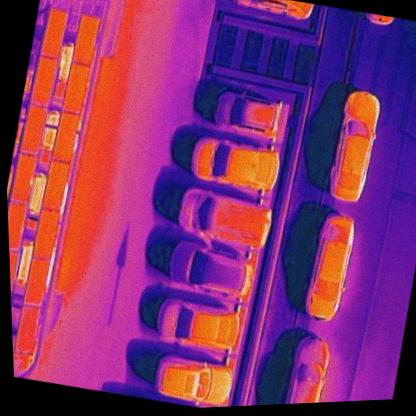Hotspot: (7, 151, 39, 206)
Normal: (58, 59, 92, 116), (27, 54, 60, 109), (17, 101, 49, 157), (29, 206, 61, 261), (39, 159, 71, 214), (11, 302, 43, 356), (69, 13, 102, 65), (50, 108, 81, 163), (21, 255, 51, 309), (38, 8, 69, 59), (7, 199, 29, 252), (9, 248, 20, 300)
